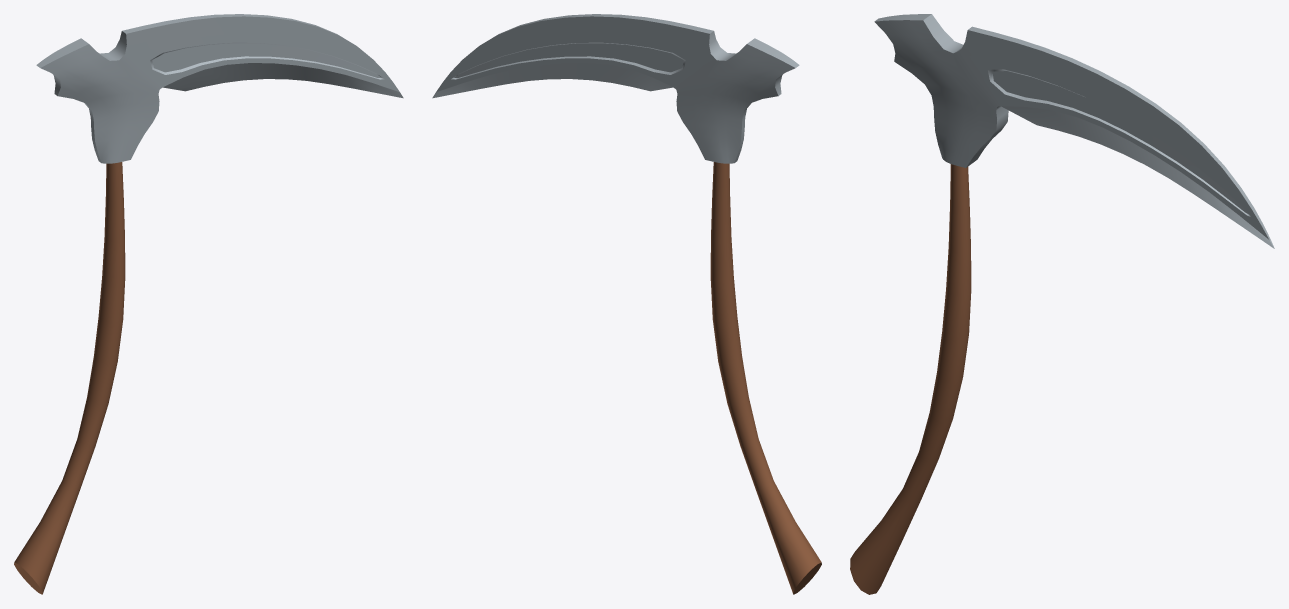
Rendered from Scythe.fbx.
3 views of the same model, side by side, from view 1: azimuth 30°, elevation 25°; view 2: azimuth 150°, elevation 25°; view 3: azimuth 330°, elevation 25° (orthographic). The views are drawn at different scales.
Visible parts, largest first — view 1: Scythe; view 2: Scythe; view 3: Scythe.
Boxes of the visible parts, <box> form: Scythe: <box>14,14,403,594</box>; Scythe: <box>432,14,821,594</box>; Scythe: <box>850,14,1274,594</box>.
Bounding box in the file's own units: 0.6555 × 0.8782 × 0.0642.
